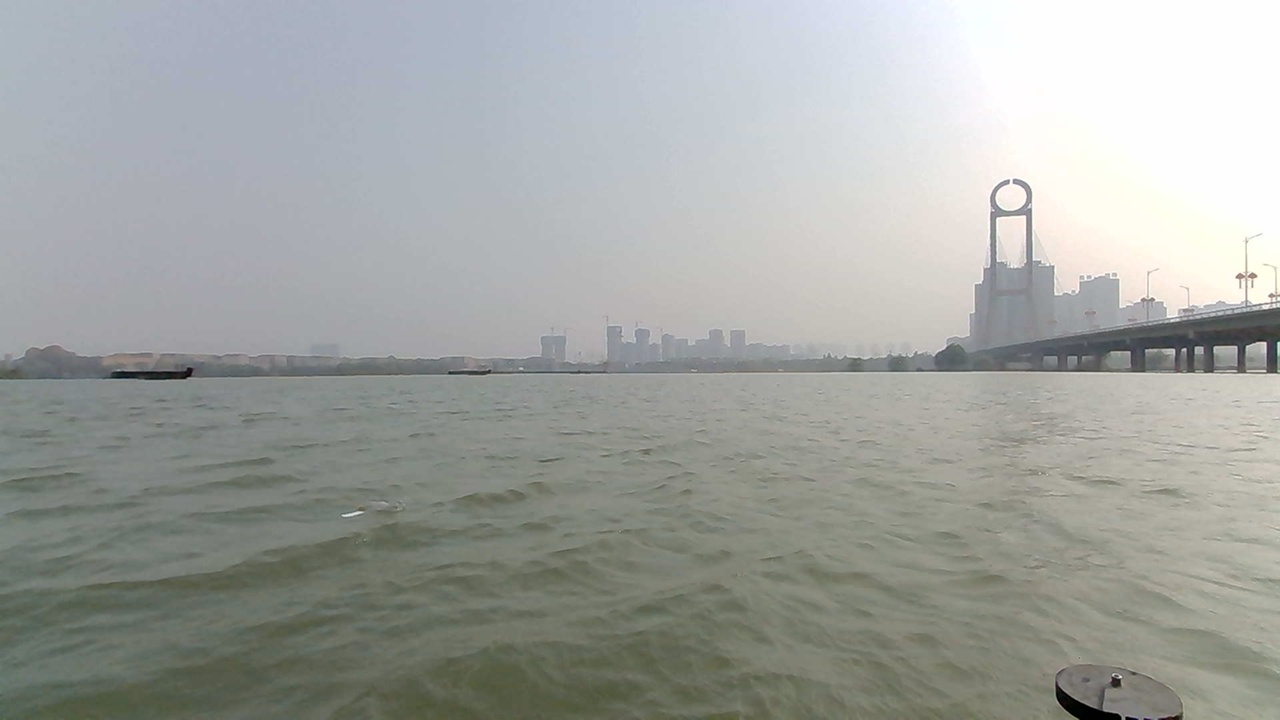bottle: (308, 482, 426, 532)
